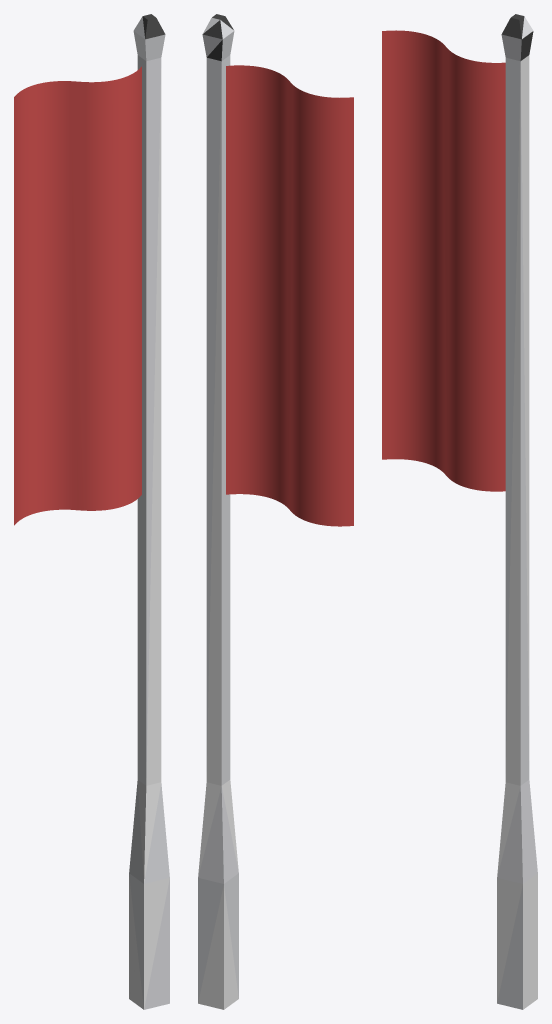
Rendered from flagRed.obj.
3 views of the same model, side by side, from view 1: azimuth 30°, elevation 25°; view 2: azimuth 150°, elevation 25°; view 3: azimuth 330°, elevation 25° (orthographic).
Parts seen in each view (by area): view 1: flagRed; view 2: flagRed; view 3: flagRed.
Boxes of the visible parts, x1=… form: flagRed: x1=14, y1=14, x2=169, y2=1009; flagRed: x1=198, y1=14, x2=353, y2=1009; flagRed: x1=382, y1=14, x2=537, y2=1009.
Size of the model in its own units: 0.1972 by 1.25 by 0.0352.
